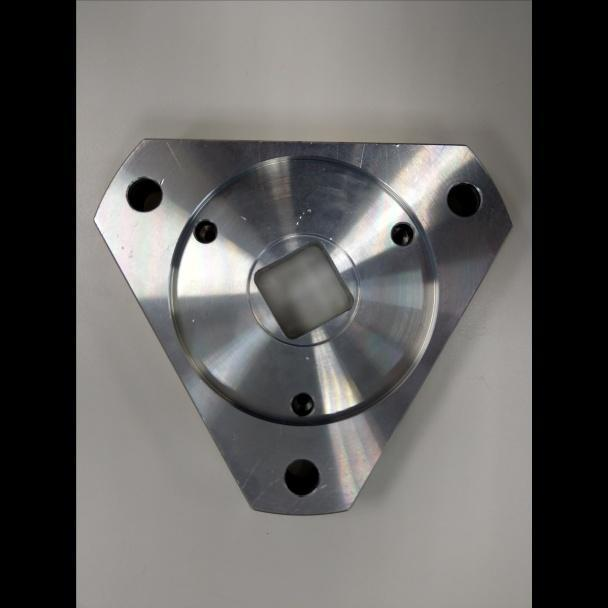hole: (121, 173, 166, 214), (280, 456, 322, 498), (444, 179, 485, 220), (287, 388, 317, 420), (387, 218, 417, 248), (190, 216, 219, 246)
